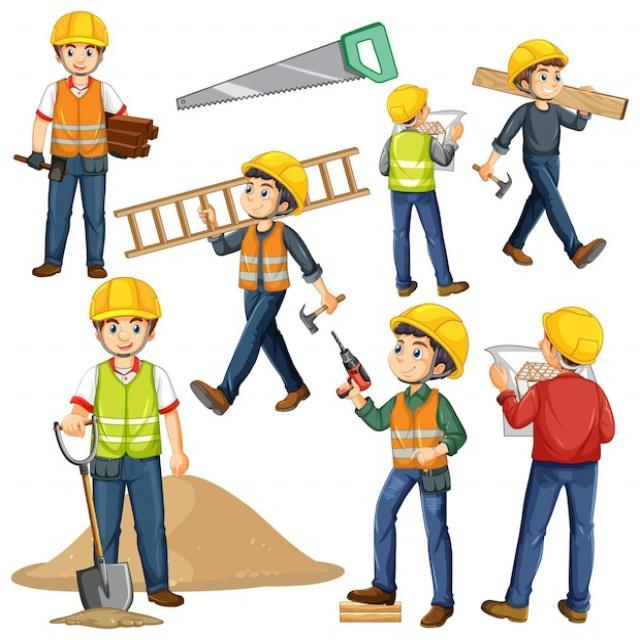reflective_jacket: (88, 356, 169, 460), (386, 385, 451, 470), (47, 75, 109, 160), (234, 219, 292, 293), (385, 128, 438, 193)
safety_helmet: (387, 298, 472, 376), (238, 148, 311, 213), (541, 302, 607, 368), (86, 273, 165, 324), (505, 36, 571, 83), (46, 6, 111, 49), (383, 80, 429, 124)
